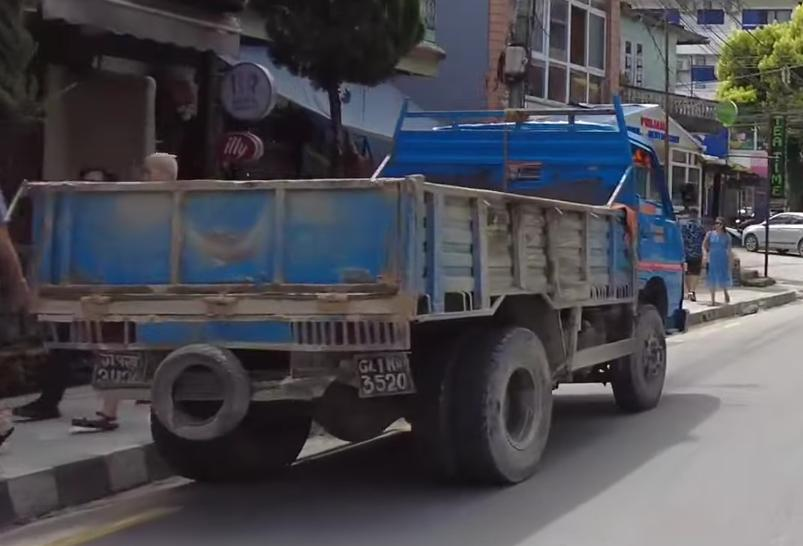car: (725, 198, 803, 268)
mini_truck: (6, 78, 686, 493)
